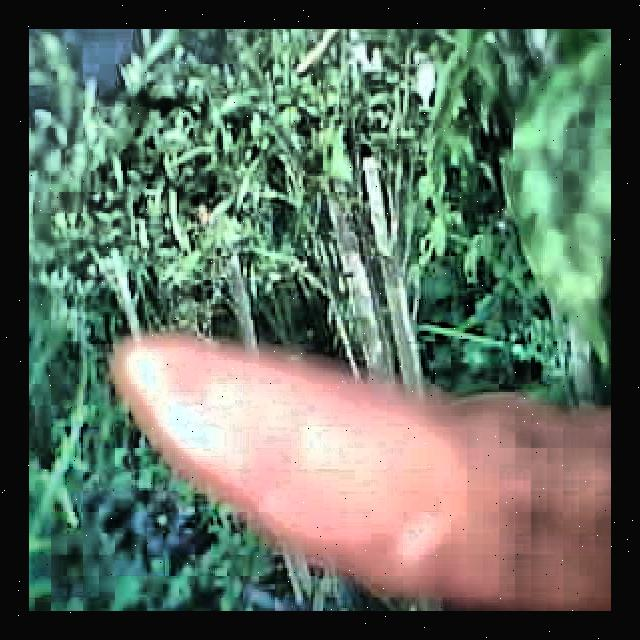Cabai: (127, 333, 611, 611)
